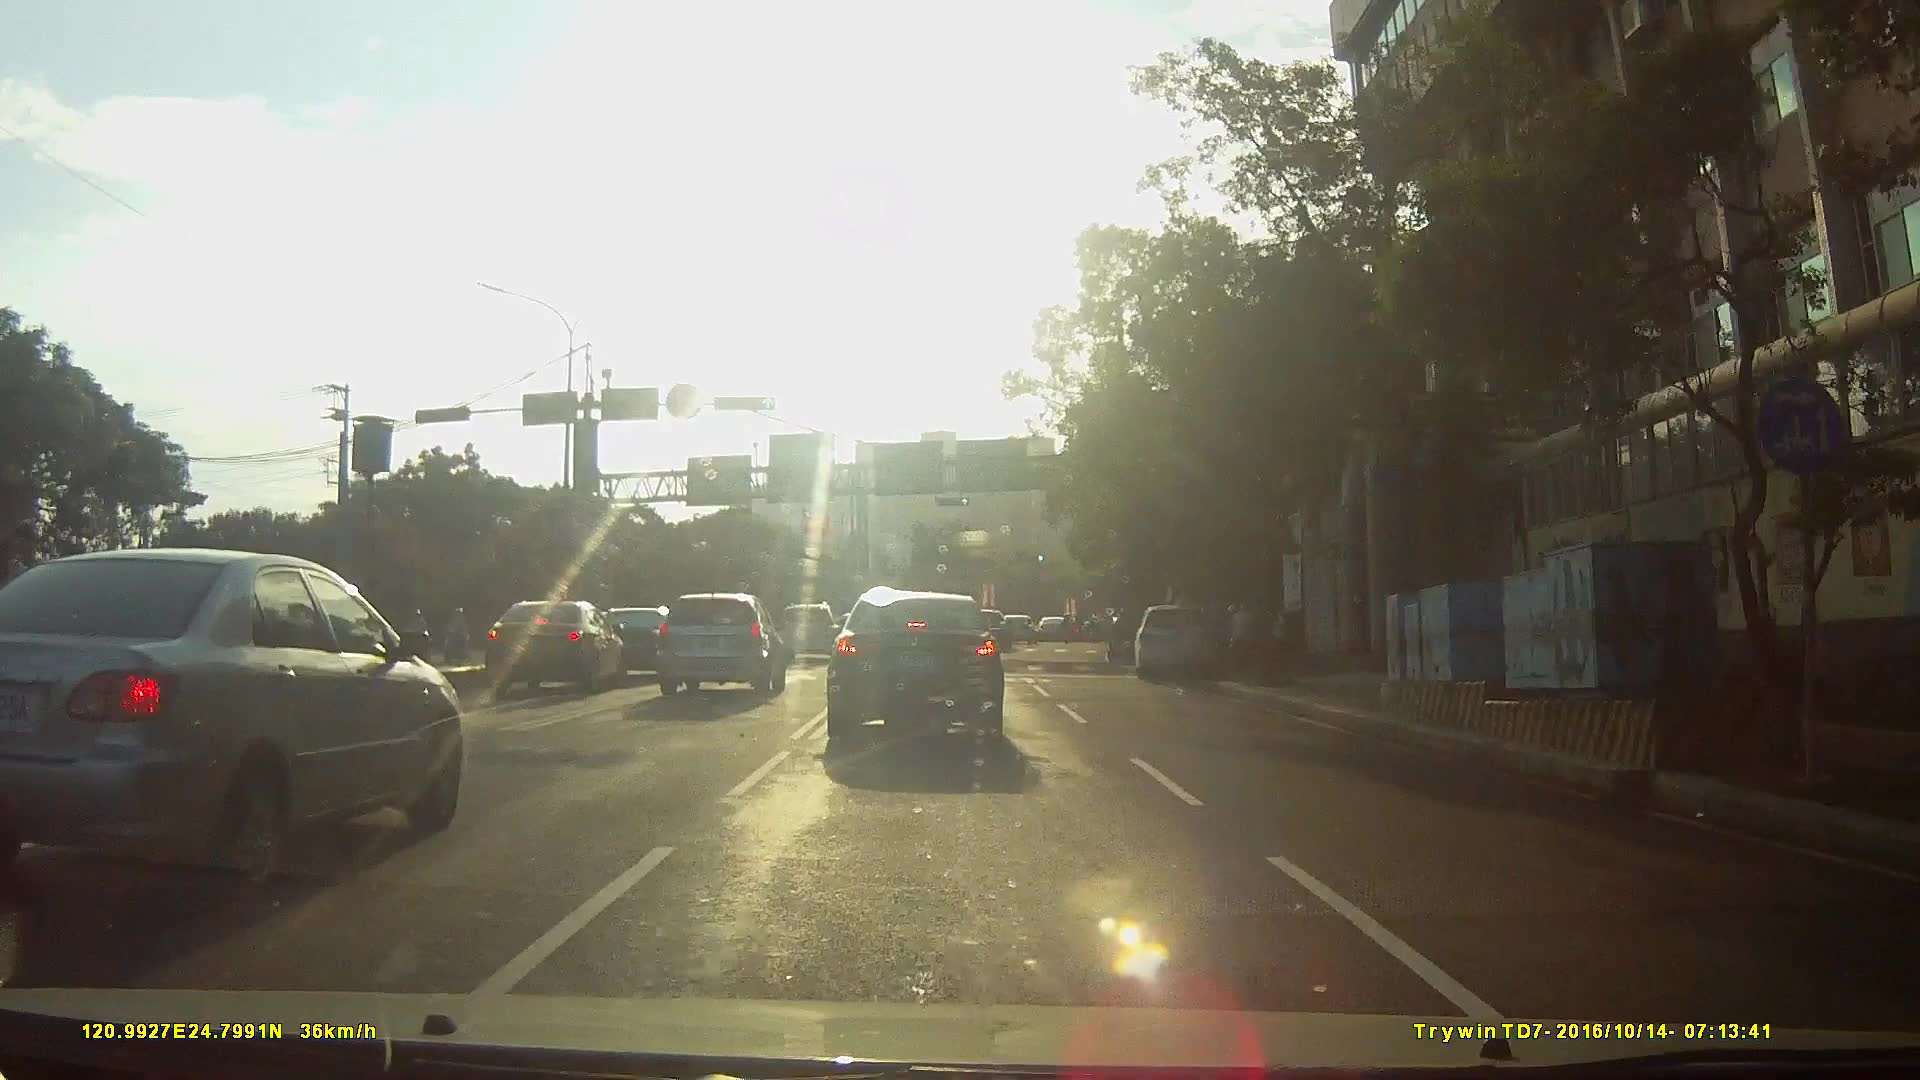pedestrian: (1226, 604, 1256, 668)
rider: (404, 608, 434, 668), (444, 604, 474, 665)
vehicle: (1, 542, 488, 900), (818, 600, 1022, 772), (457, 596, 615, 696), (650, 588, 786, 697), (577, 604, 674, 679), (1139, 603, 1227, 685), (772, 599, 843, 664), (960, 607, 1017, 654), (1002, 612, 1041, 644), (1038, 615, 1077, 643)
